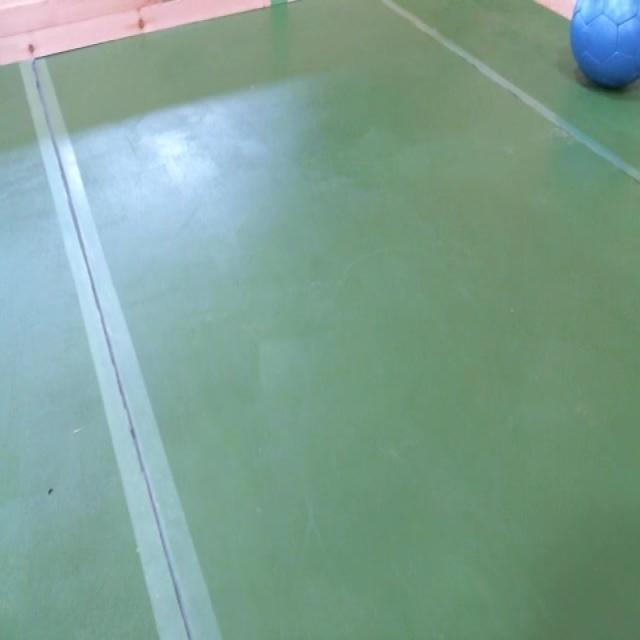blue_ball: (569, 0, 640, 98)
